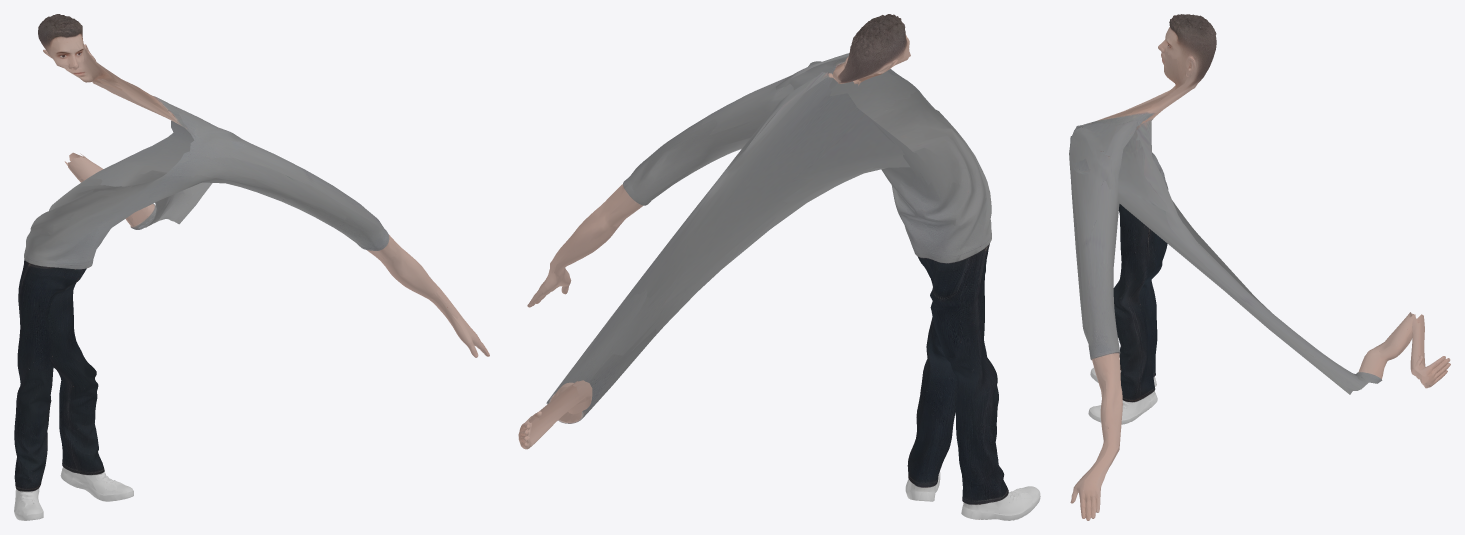
File: adult_static.glb
The picture shows the model from 3 angles, left to right: view 1: azimuth 30°, elevation 25°; view 2: azimuth 150°, elevation 25°; view 3: azimuth 270°, elevation 25°; orthographic projection. The views are drawn at different scales.
Parts seen in each view (by area): view 1: adulte_statique; view 2: adulte_statique; view 3: adulte_statique.
Part boxes in pixels (bbox=[...]): adulte_statique: bbox=[14, 14, 489, 520]; adulte_statique: bbox=[518, 14, 1040, 520]; adulte_statique: bbox=[1069, 14, 1450, 520].
Size of the model in its own units: 1.71 by 1.6 by 1.38.
1 material, 1 textured.
